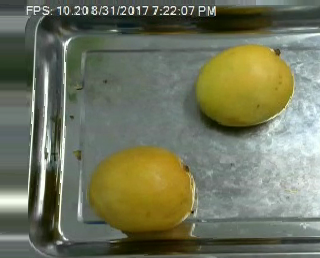Mango: (91, 143, 203, 235), (188, 43, 297, 130)
